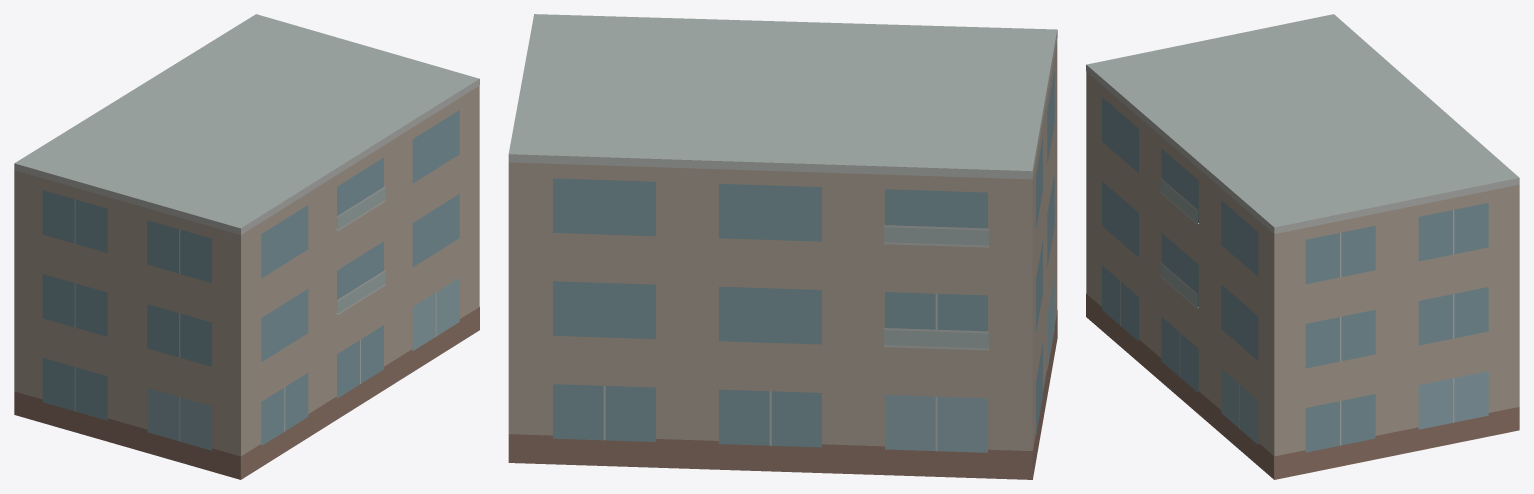
Rendered from survey-upis-32708325.glb.
3 views of the same model, side by side, from view 1: azimuth 30°, elevation 25°; view 2: azimuth 150°, elevation 25°; view 3: azimuth 270°, elevation 25° (orthographic). The views are drawn at different scales.
Parts seen in each view (by area): view 1: survey-upis-32708325.tmp; view 2: survey-upis-32708325.tmp; view 3: survey-upis-32708325.tmp.
Part boxes in pixels (box(x1,y1,x2,y2)): survey-upis-32708325.tmp: box(14, 14, 479, 479); survey-upis-32708325.tmp: box(508, 14, 1057, 479); survey-upis-32708325.tmp: box(1086, 14, 1519, 479).
Size of the model in its own units: 16.6 by 9.15 by 14.25.
